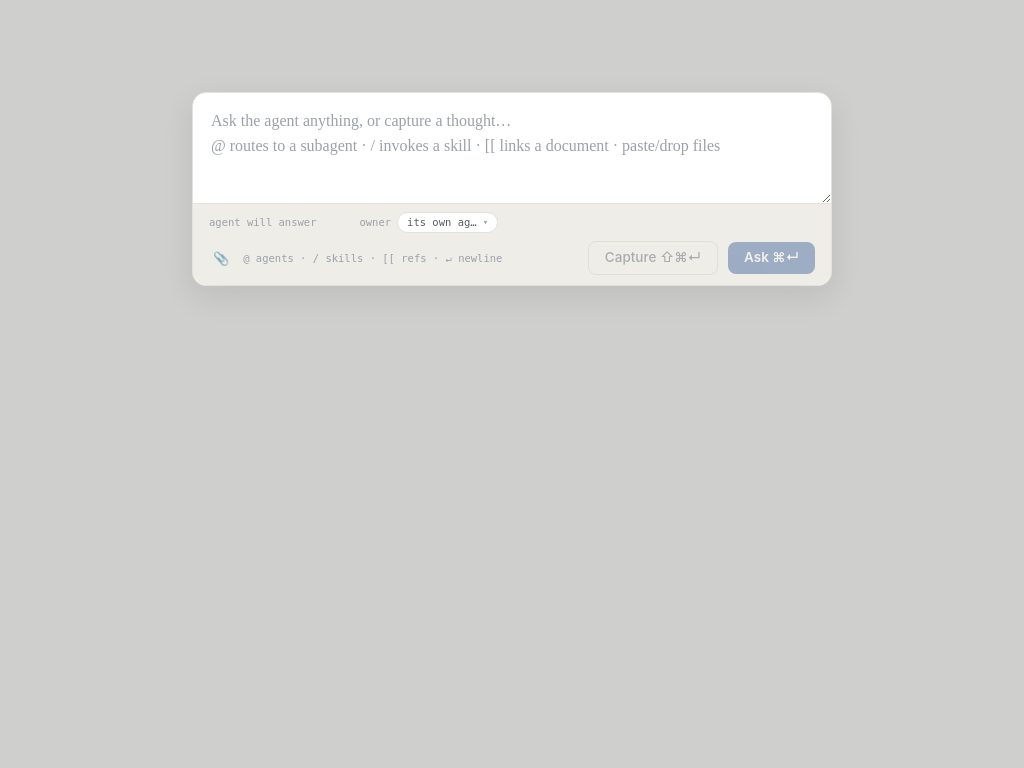
Scenario: liveness is presentation only › is live on the global composer, whose both submits reach the agent
The image size is (1024, 768).
Click the button "its own agent ▾" at (448, 223), box [397, 212, 498, 233]
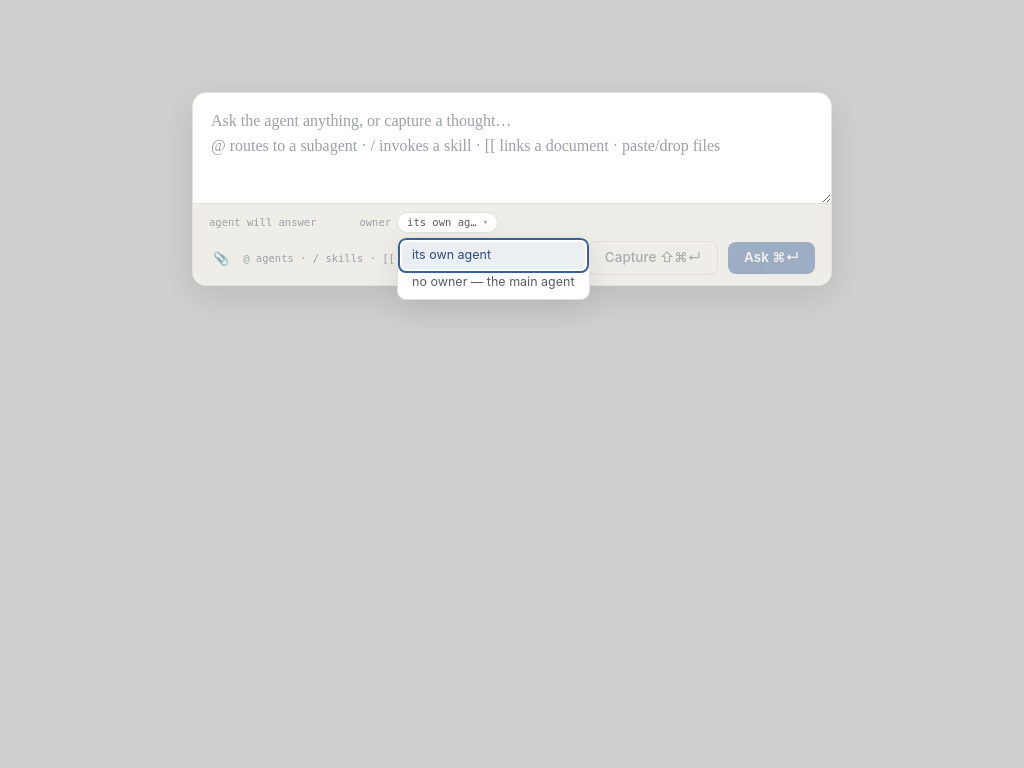
Click the menu item "no owner — the main agent" at (493, 282), box [402, 268, 584, 295]
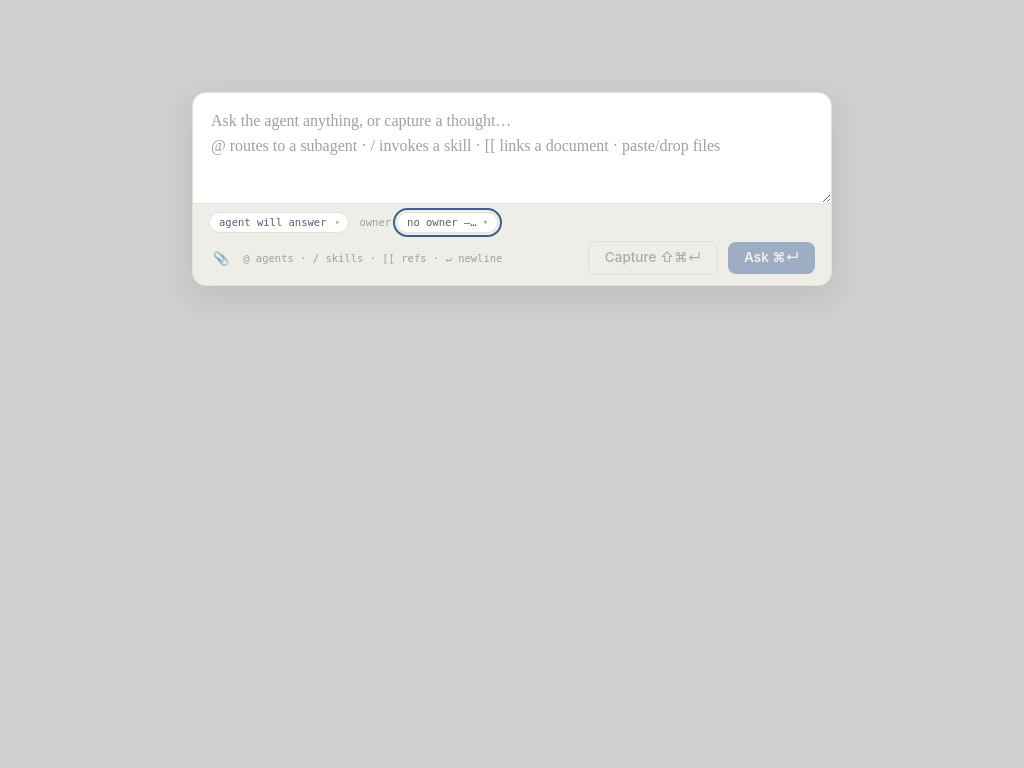
Click the button "agent will answer ▾" at (279, 223), box [209, 212, 350, 233]
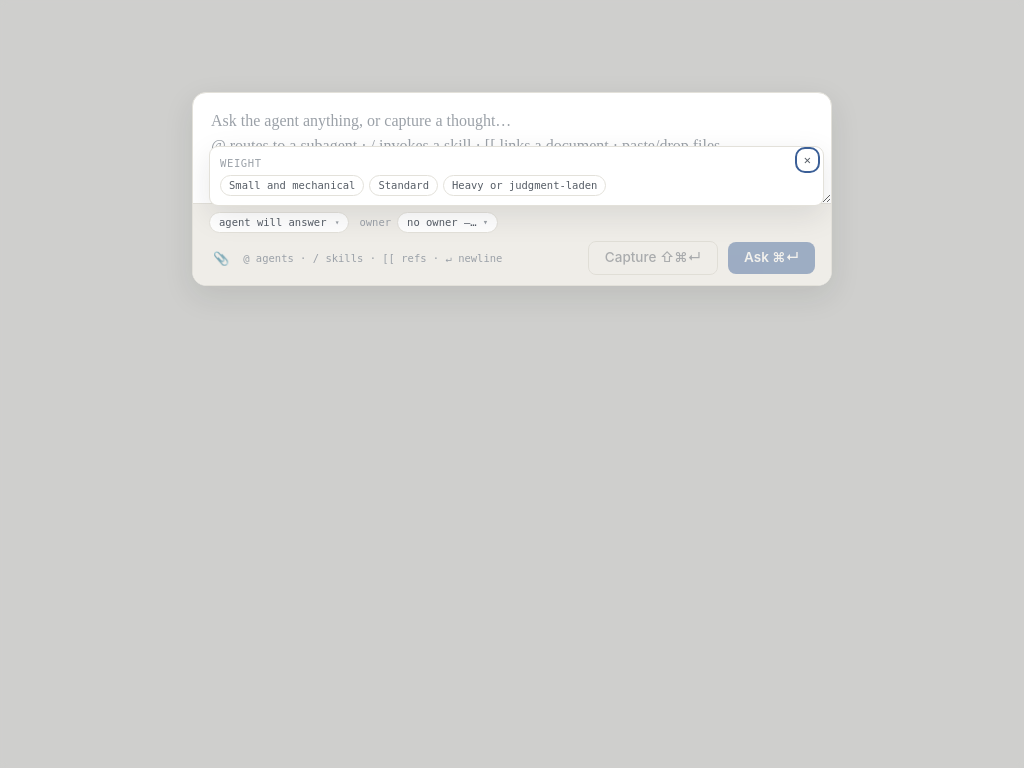
Expected: the button "Small and mechanical" is shown, [220, 175, 364, 196]
